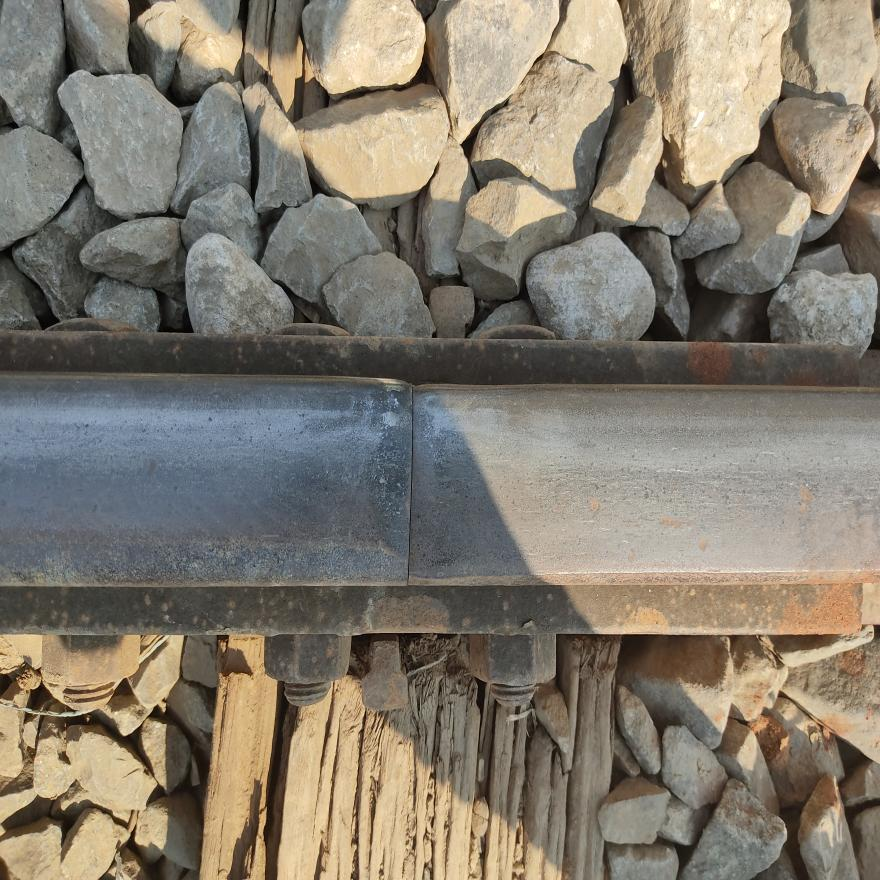railway-gap: (304, 333, 521, 625)
